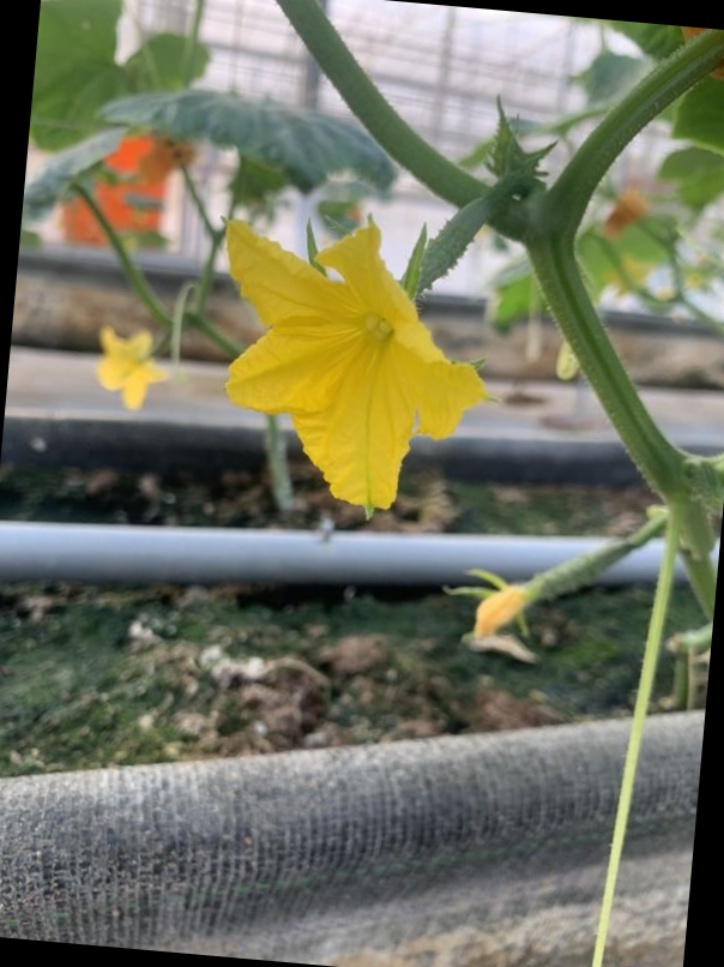flowering: (200, 176, 511, 532)
